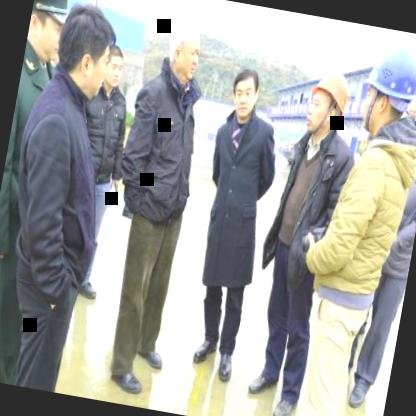head: (50, 0, 123, 100), (160, 15, 206, 89), (224, 62, 266, 121), (98, 31, 132, 100), (406, 80, 416, 133)
helmet: (358, 37, 416, 137), (300, 65, 352, 140)
